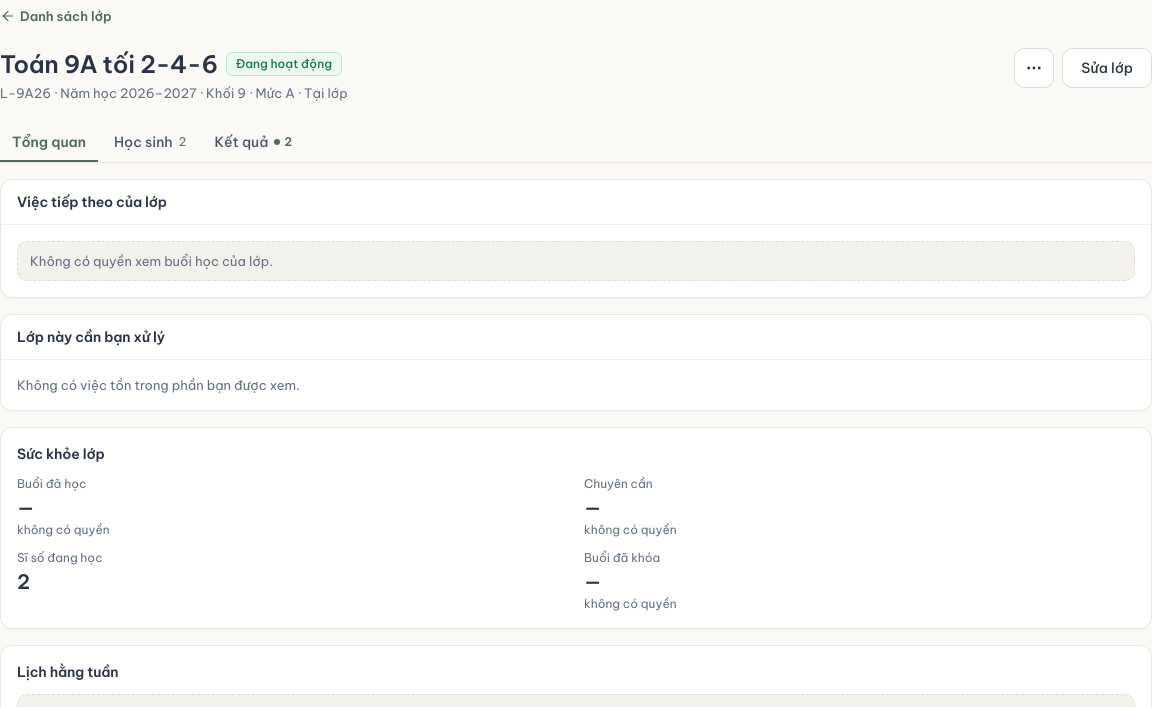
Test: ClassStudentsTab › opens on Đang học and filters with the chips
Click the tab "Học sinh 2": {"x": 150, "y": 142} [102, 122, 198, 162]
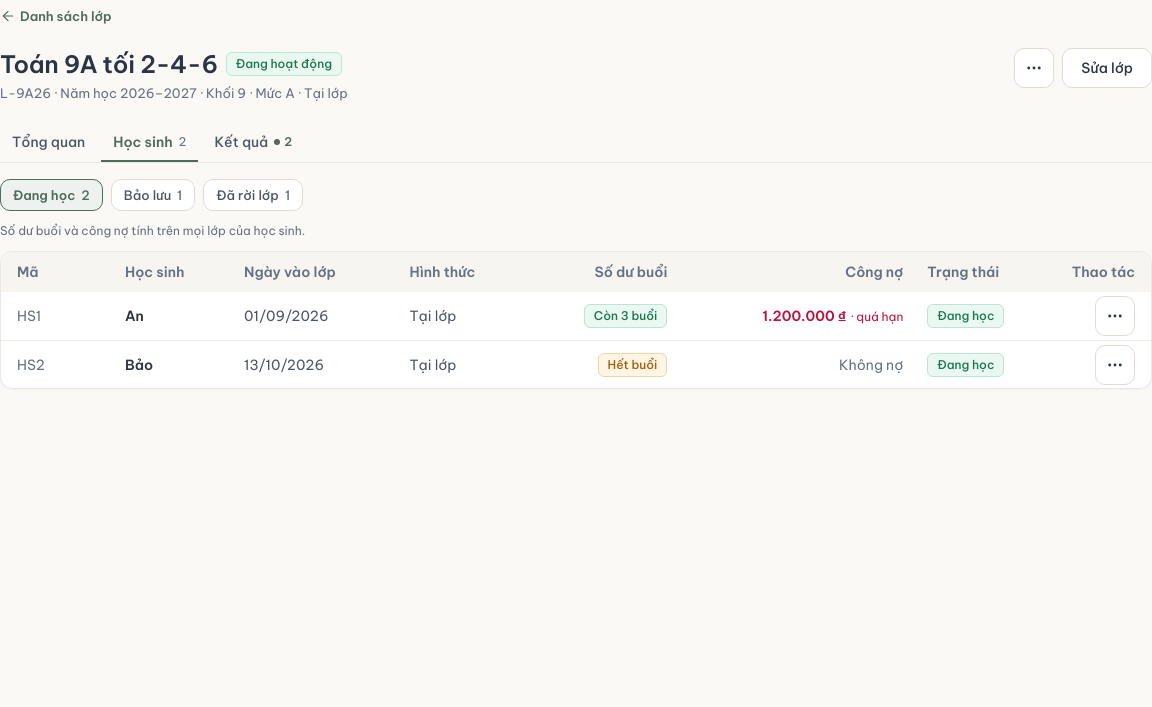
Expected: the link "Cúc" is not shown
Result: the link "Bảo" is shown at [125, 356, 153, 374]
Result: the text "· quá hạn" is shown at [850, 309, 903, 324]
Click the button "Bảo lưu 1": {"x": 153, "y": 195} [111, 179, 195, 211]
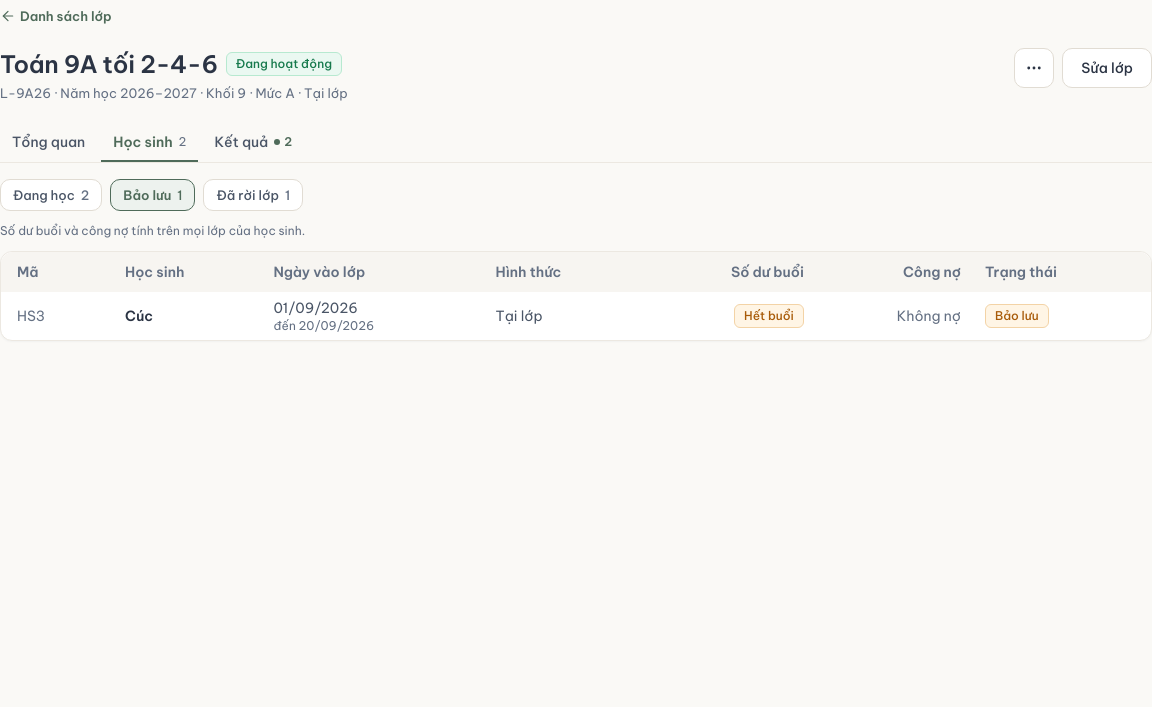
Result: the link "Cúc" is shown at [125, 307, 153, 325]
Click the button "Đã rời lớp 1": {"x": 253, "y": 195} [204, 179, 303, 211]
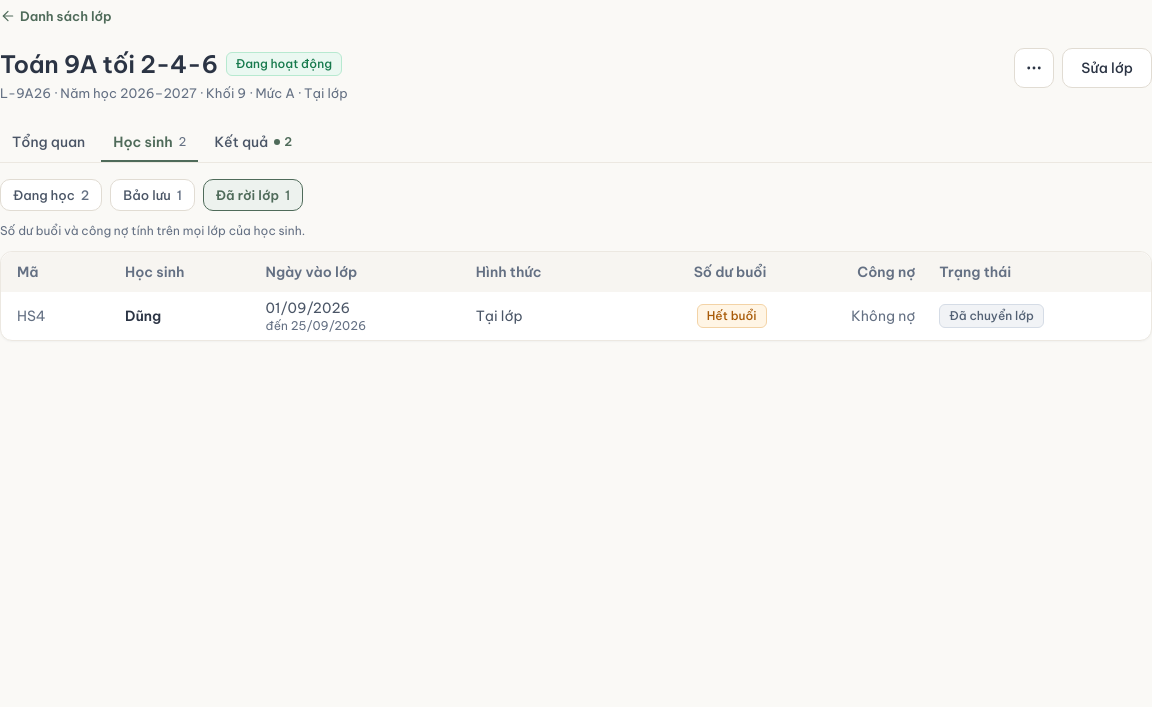
Result: the link "Dũng" is shown at [125, 307, 161, 325]
